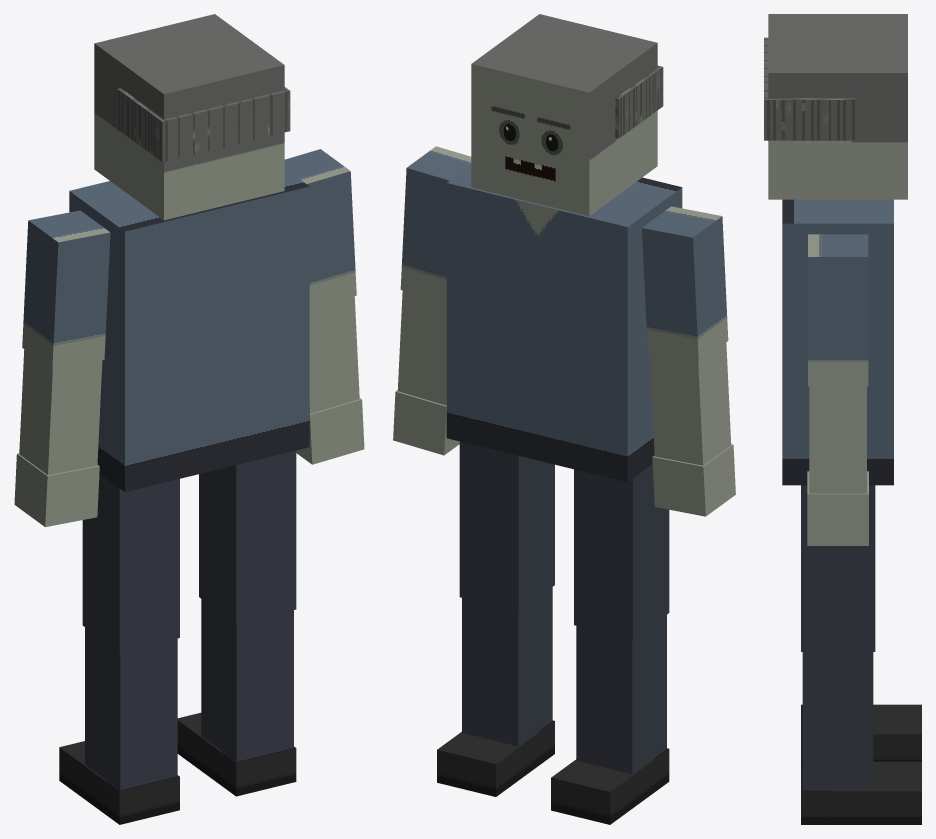
File: hair_balding.glb
The picture shows the model from 3 angles, left to right: view 1: azimuth 30°, elevation 25°; view 2: azimuth 150°, elevation 25°; view 3: azimuth 270°, elevation 25°; orthographic projection. The views are drawn at different scales.
Visible parts, largest first — view 1: block_torso, block_head, block_thigh.L, block_thigh.R, block_shin.L, block_shin.R, block_upper_arm.L, block_forearm.L, block_upper_arm.R, block_hair-ring-back, block_forearm.R, block_foot.L (+4 smaller); view 2: block_torso, block_head, block_thigh.L, block_thigh.R, block_shin.R, block_shin.L, block_upper_arm.L, block_forearm.L, block_upper_arm.R, block_foot.L, block_foot.R, block_forearm.R (+3 smaller); view 3: block_head, block_torso, block_shin.R, block_upper_arm.R, block_thigh.R, block_forearm.R, block_foot.R, block_hand.R, block_hair-ring-side, block_foot.L, block_hair-ring-back.
Boxes of the visible parts, x1,y1,x2,y2 form: block_torso: (69,168,309,491); block_head: (94,14,284,220); block_thigh.L: (82,474,179,652); block_thigh.R: (199,450,296,623); block_shin.L: (85,627,177,790); block_shin.R: (201,599,293,761); block_upper_arm.L: (22,210,110,369); block_forearm.L: (19,349,102,474); block_upper_arm.R: (284,149,356,309); block_hair-ring-back: (149,87,290,161); block_forearm.R: (309,296,359,413); block_foot.L: (59,741,179,824); block_torso: (446,165,682,482); block_head: (471,14,657,215); block_thigh.L: (574,464,669,639); block_thigh.R: (459,441,554,611); block_shin.R: (462,587,552,746); block_shin.L: (576,615,666,774); block_upper_arm.L: (642,206,728,362); block_forearm.L: (649,343,731,465); block_upper_arm.R: (400,146,471,303); block_foot.L: (551,748,669,824); block_foot.R: (437,720,554,796); block_forearm.R: (397,290,446,405); block_head: (768,14,907,199); block_torso: (782,199,893,485); block_shin.R: (802,652,873,790); block_upper_arm.R: (808,234,868,386); block_thigh.R: (801,485,875,651); block_forearm.R: (809,386,866,493); block_foot.R: (801,761,921,824); block_hand.R: (807,471,868,545); block_hair-ring-side: (764,98,854,140); block_foot.L: (801,704,921,761); block_hair-ring-back: (764,37,790,140).
Bounding box in the file's own units: 0.7948 × 1.75 × 0.339.
1 material, 1 textured.
